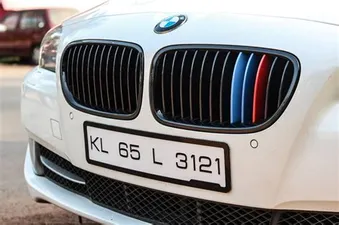number_plate: (77, 121, 249, 199)
